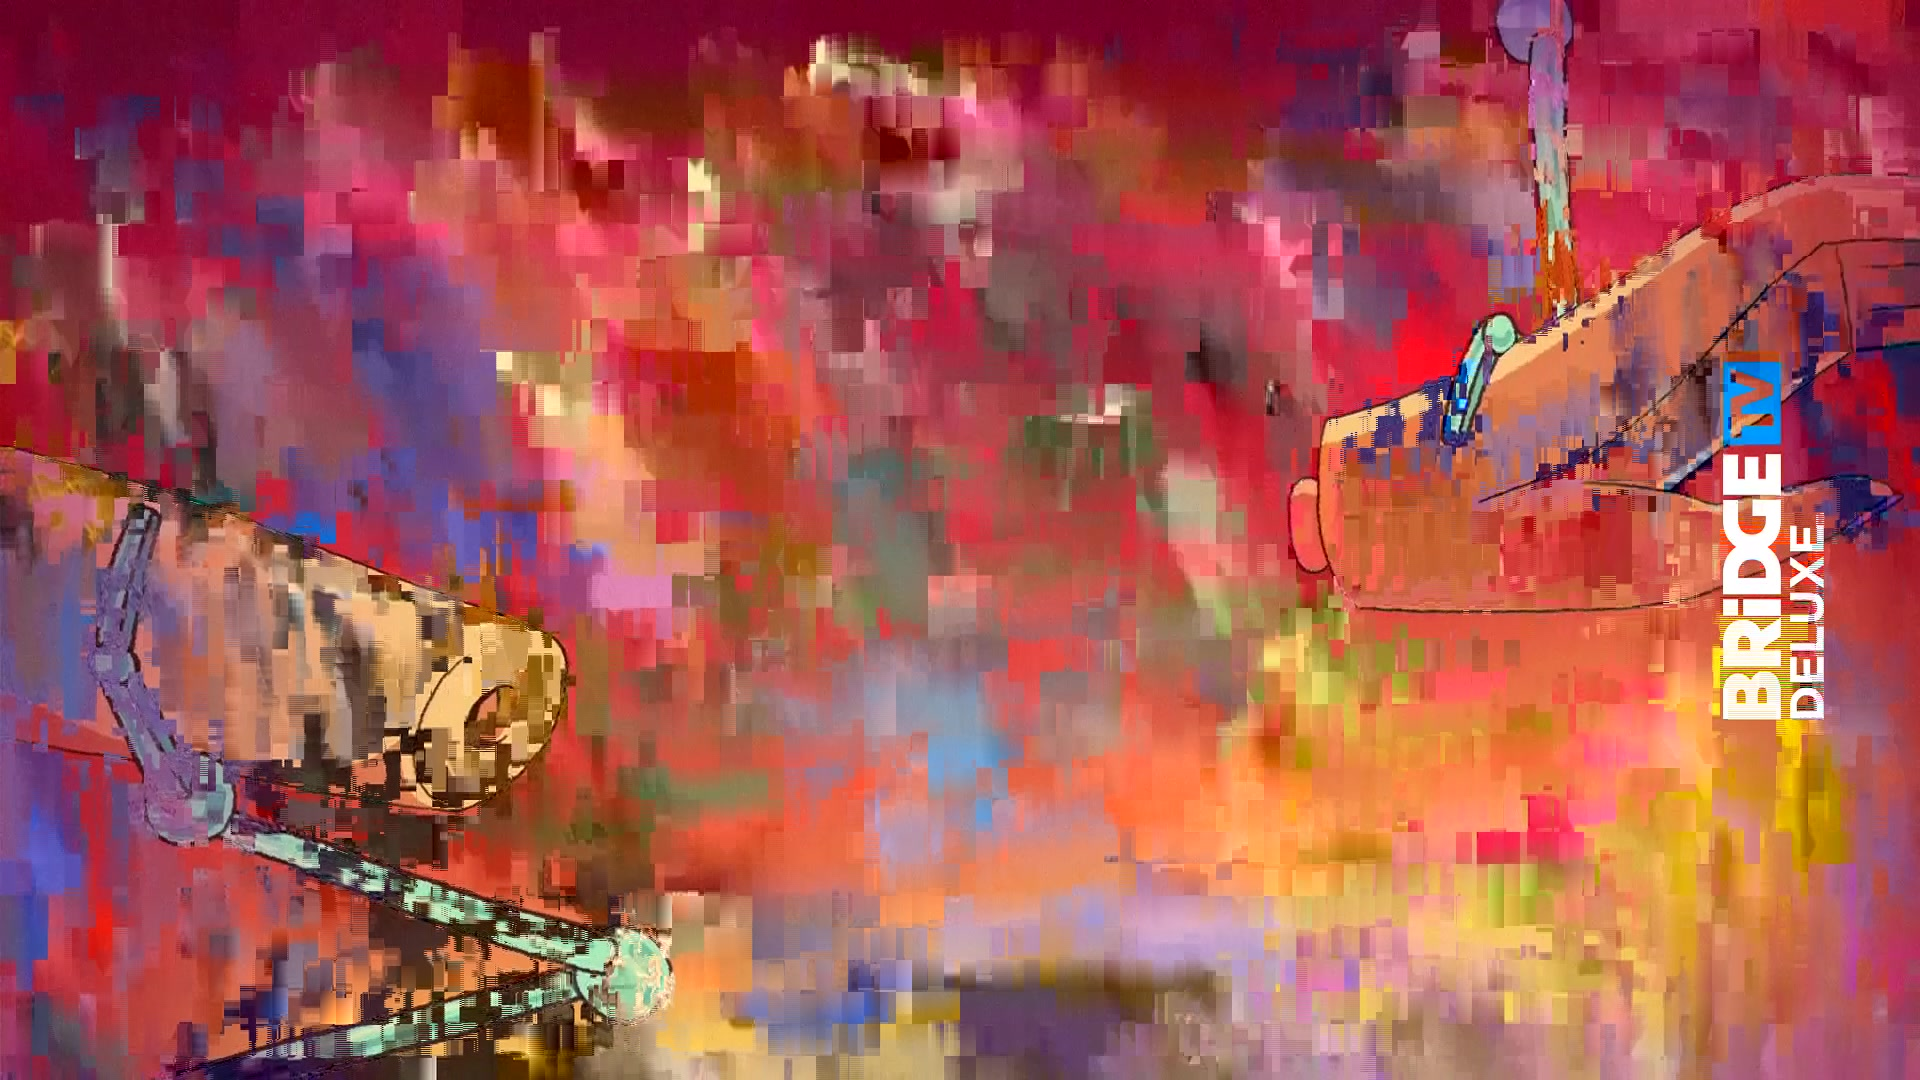Bridge_TV_Deluxe: (1718, 349, 1833, 727)
